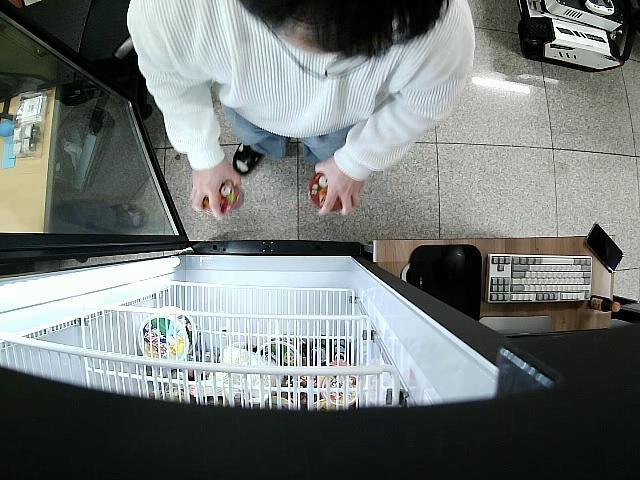06_nuguri_S: (200, 176, 247, 216), (308, 172, 352, 210)
